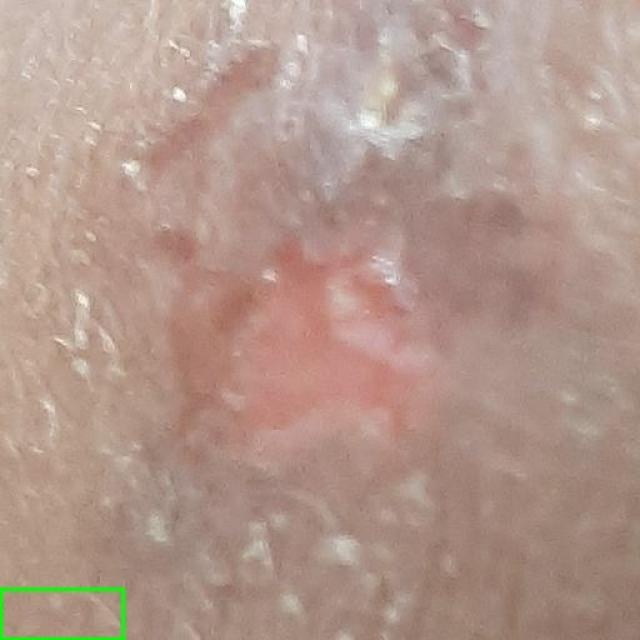Eczema: (0, 589, 122, 639)
